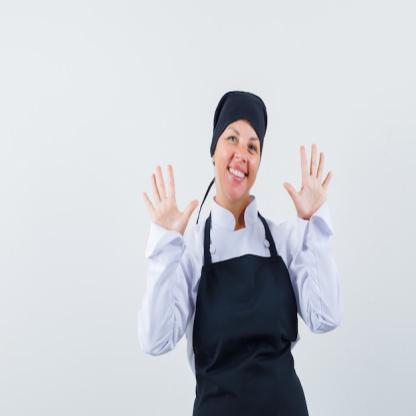stop: (141, 162, 200, 251), (283, 140, 335, 218)
